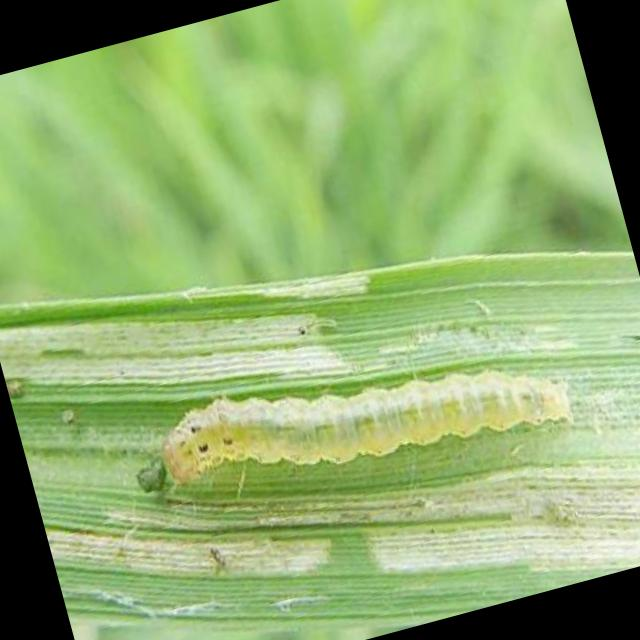leaf-folder: (105, 293, 594, 578)
